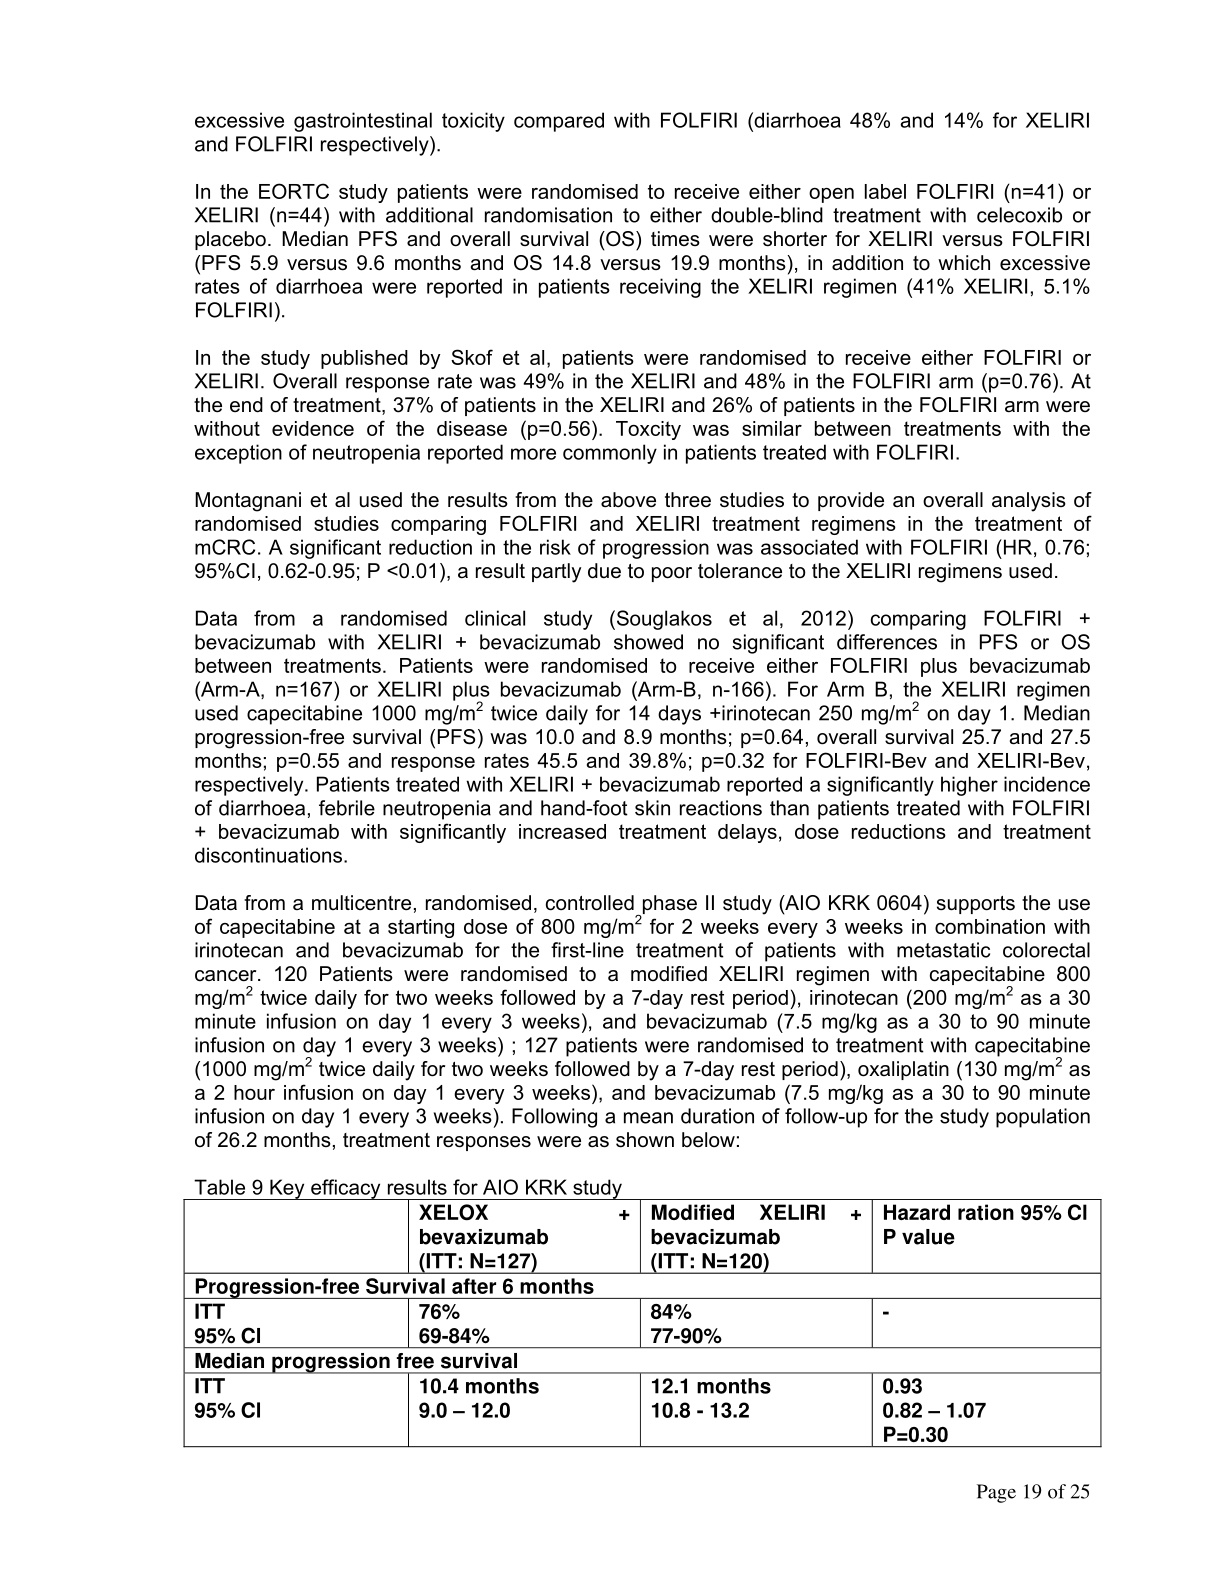merged_cells: (183, 1198, 1102, 1448)
